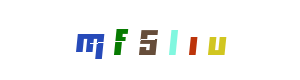1: (114, 0, 194, 80)
5: (110, 0, 190, 80)
F: (79, 0, 159, 80)
I: (119, 0, 199, 80)
M: (51, 0, 131, 80)
U: (176, 0, 256, 80)
